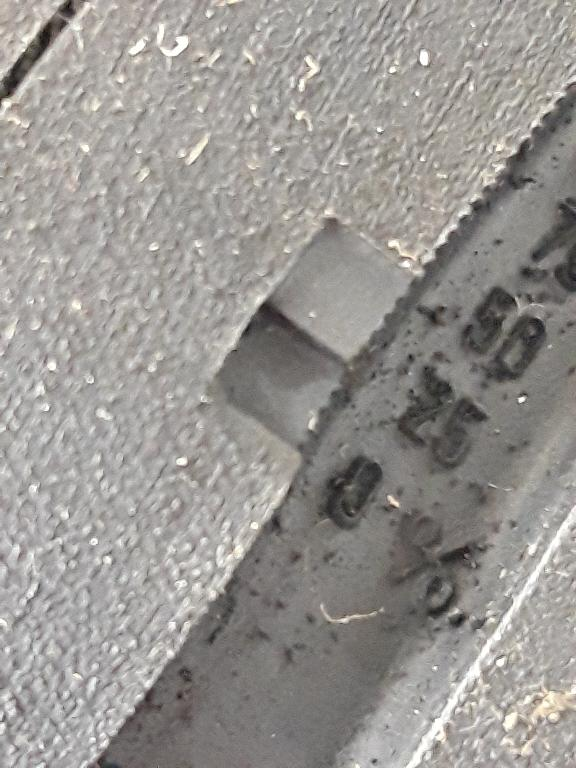temoin:25: (197, 200, 434, 475)
